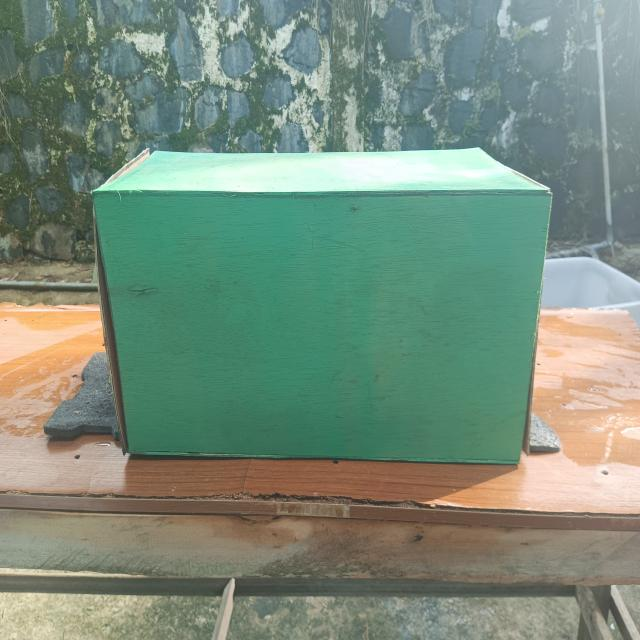green_box: (58, 95, 567, 486)
